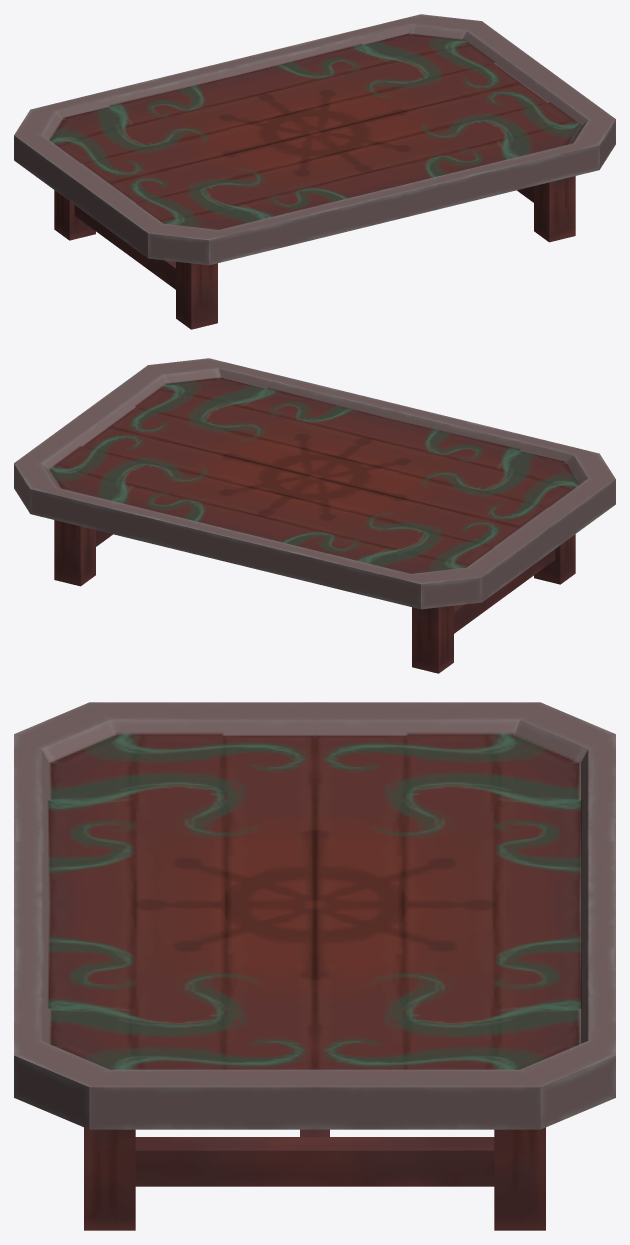
Rendered from Pirate Table.fbx.
3 renders of one model, top to bottom at view 1: azimuth 30°, elevation 25°; view 2: azimuth 150°, elevation 25°; view 3: azimuth 270°, elevation 25°, orthographic. The views are drawn at different scales.
Parts seen in each view (by area): view 1: Pirate_Table; view 2: Pirate_Table; view 3: Pirate_Table.
Boxes of the visible parts, x1,y1,x2,y2 form: Pirate_Table: (14,14,615,329); Pirate_Table: (14,358,615,673); Pirate_Table: (14,702,615,1230).
Bounding box in the file's own units: 295 × 63.56 × 195.
